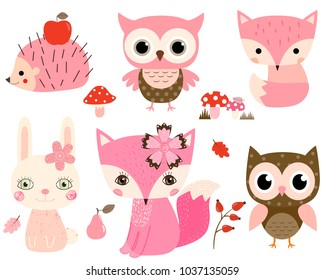animal: (90, 124, 214, 250), (11, 116, 85, 252), (236, 10, 320, 108), (7, 37, 92, 89)
bird: (114, 12, 199, 111), (243, 146, 320, 241)
flower: (209, 197, 246, 248)
fruit: (87, 202, 114, 242), (42, 11, 72, 44)
